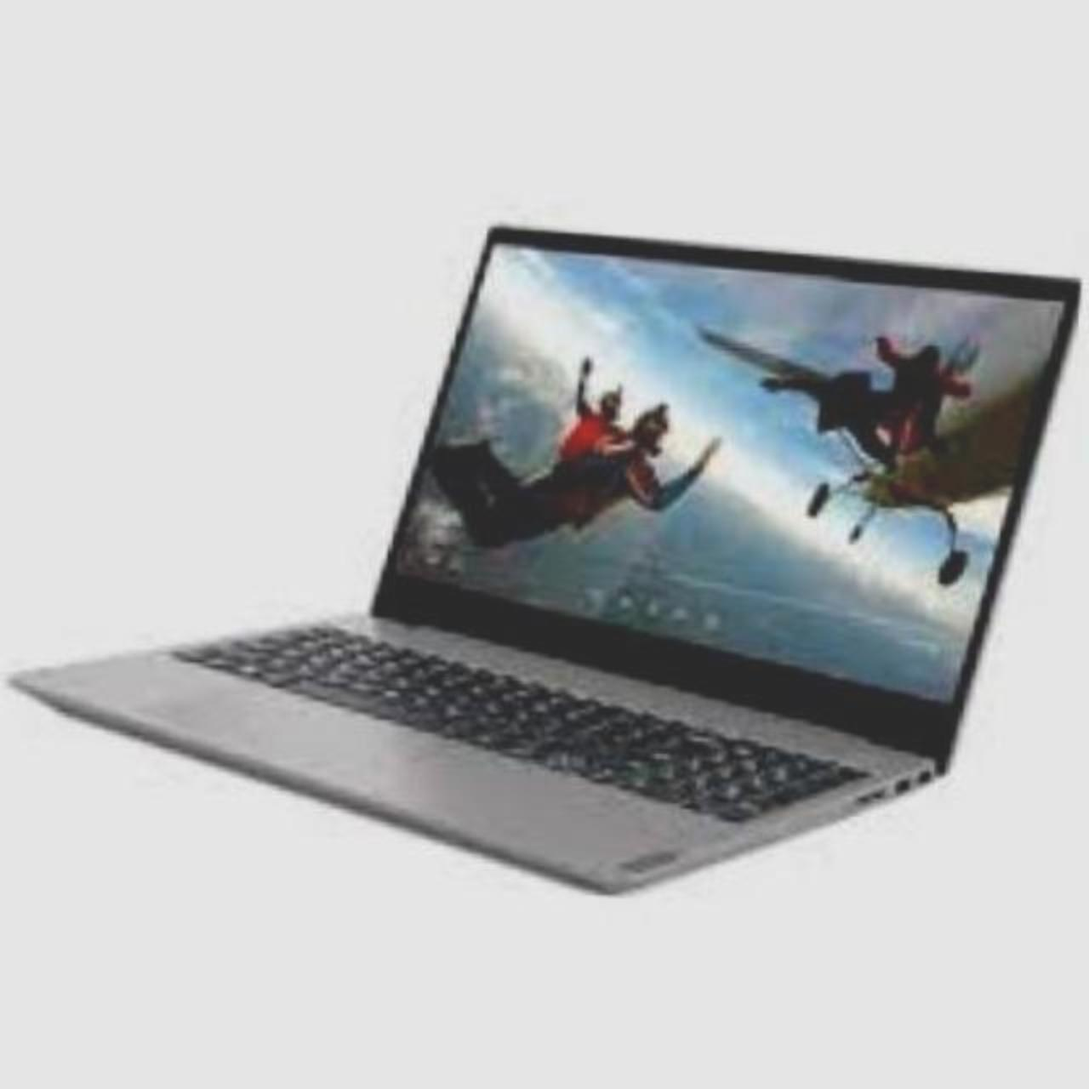laptop: (1, 180, 1071, 916)
